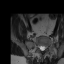CCS_normal: (41, 44, 43, 52)
LFS_normal: (45, 44, 47, 50)
LLS_normal: (43, 44, 45, 51)
RFS_normal: (37, 43, 39, 50)
RLS_normal: (39, 44, 41, 51)
